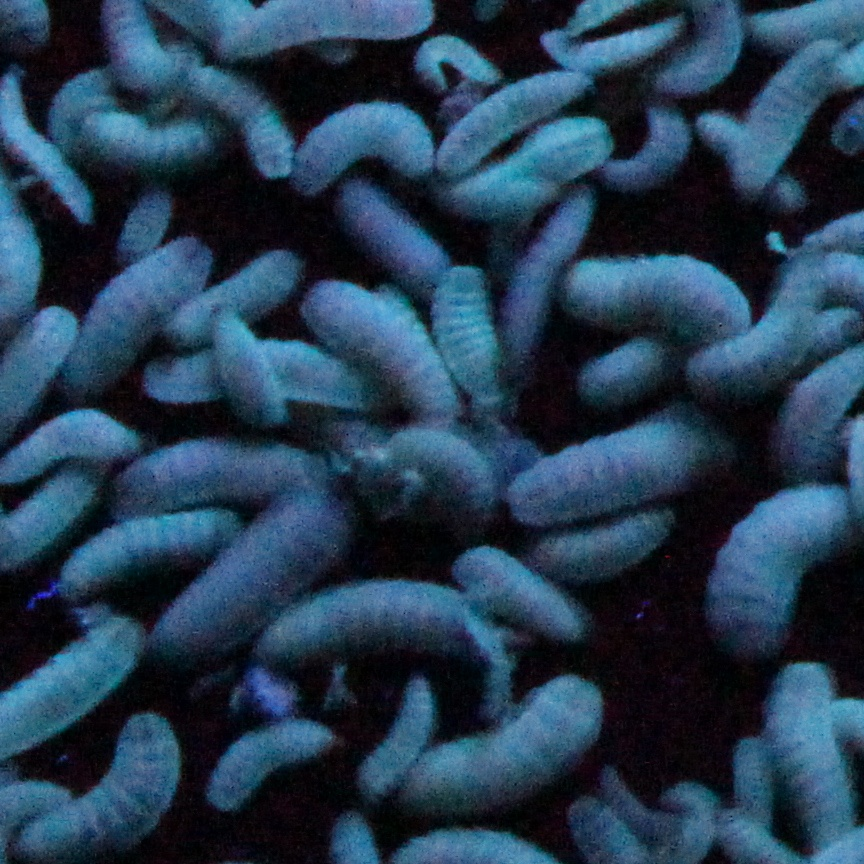larve: (158, 491, 363, 665), (494, 410, 737, 524), (399, 676, 599, 807), (703, 477, 854, 643), (304, 279, 463, 429), (63, 233, 208, 390), (29, 710, 180, 858), (261, 574, 503, 664), (682, 252, 829, 393), (563, 255, 761, 345), (730, 40, 844, 196), (61, 507, 251, 595), (104, 438, 325, 512), (769, 665, 854, 837), (437, 71, 585, 167), (189, 57, 301, 174), (334, 179, 451, 290), (292, 103, 430, 193), (163, 250, 303, 336), (456, 548, 585, 641), (441, 260, 515, 414), (210, 719, 337, 807), (535, 507, 684, 576), (208, 307, 289, 431), (608, 105, 684, 184)
